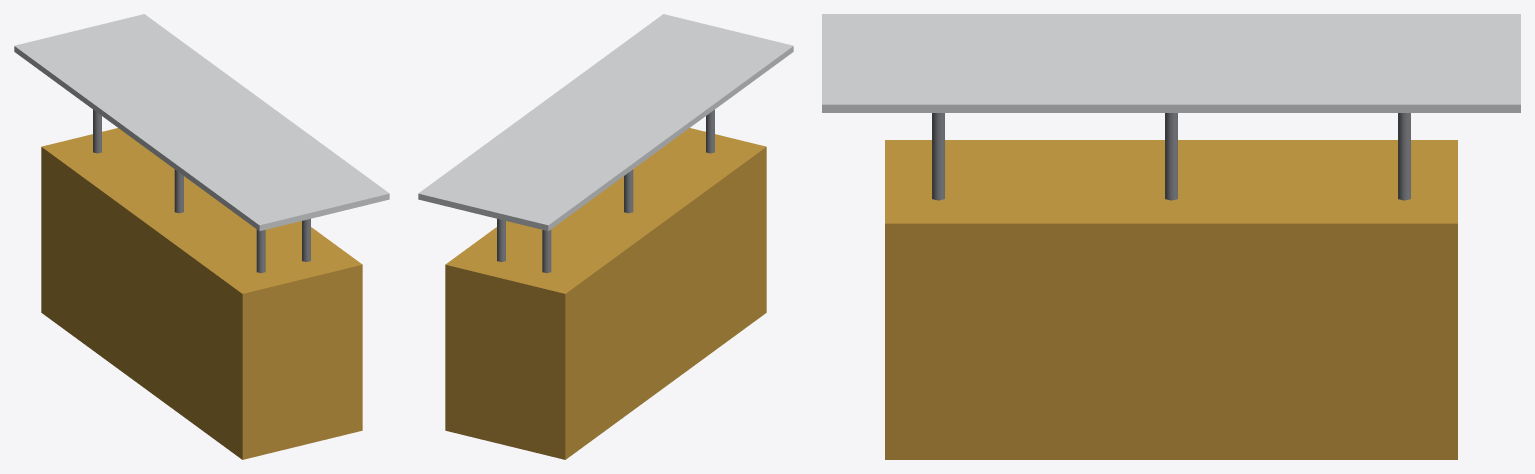
Rendered from hr1_psu.obj.
3 views of the same model, side by side, from view 1: azimuth 30°, elevation 25°; view 2: azimuth 150°, elevation 25°; view 3: azimuth 270°, elevation 25° (orthographic). The views are drawn at different scales.
Visible parts, largest first — view 1: hr1_psu; view 2: hr1_psu; view 3: hr1_psu.
Boxes of the visible parts, x1,y1,x2,y2 form: hr1_psu: [14, 14, 389, 459]; hr1_psu: [418, 14, 793, 459]; hr1_psu: [822, 14, 1520, 459].
Size of the model in its own units: 0.46 by 0.85 by 1.5.
